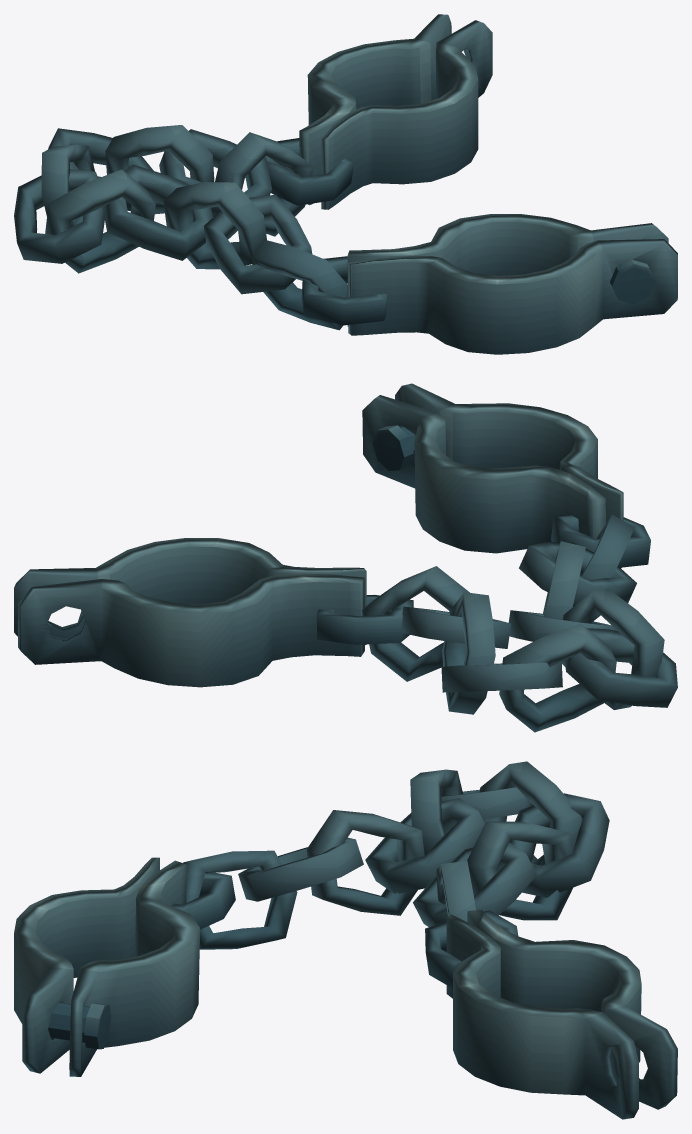
File: Shackles.fbx
The picture shows the model from 3 angles, top to bottom: view 1: azimuth 30°, elevation 25°; view 2: azimuth 150°, elevation 25°; view 3: azimuth 270°, elevation 25°; orthographic projection. The views are drawn at different scales.
Visible parts, largest first — view 1: Shackles; view 2: Shackles; view 3: Shackles.
Boxes of the visible parts, x1,y1,x2,y2 form: Shackles: (14,14,677,354); Shackles: (14,383,677,732); Shackles: (14,761,677,1119).
Bounding box in the file's own units: 2.59 × 0.4985 × 2.47.
